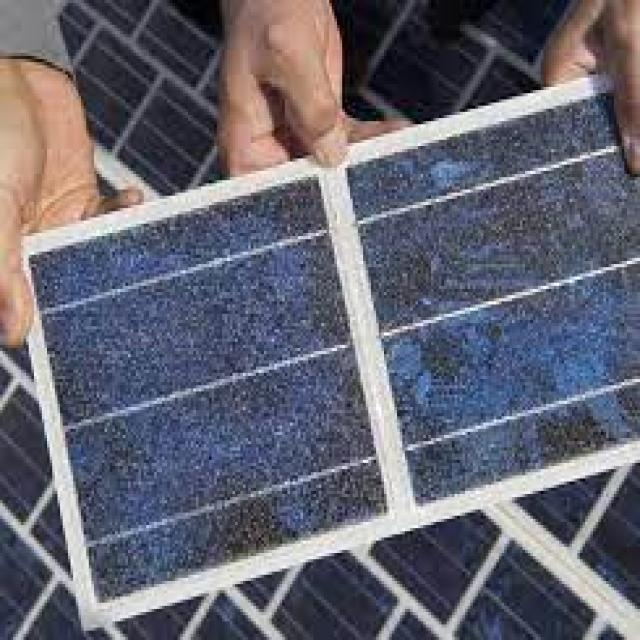no faulty: (31, 64, 638, 616)
